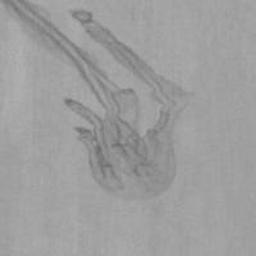Water spot: (0, 0, 196, 202)
